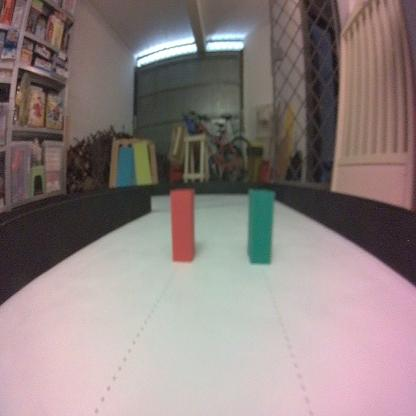green: (245, 187, 274, 264)
red: (170, 187, 196, 264)
